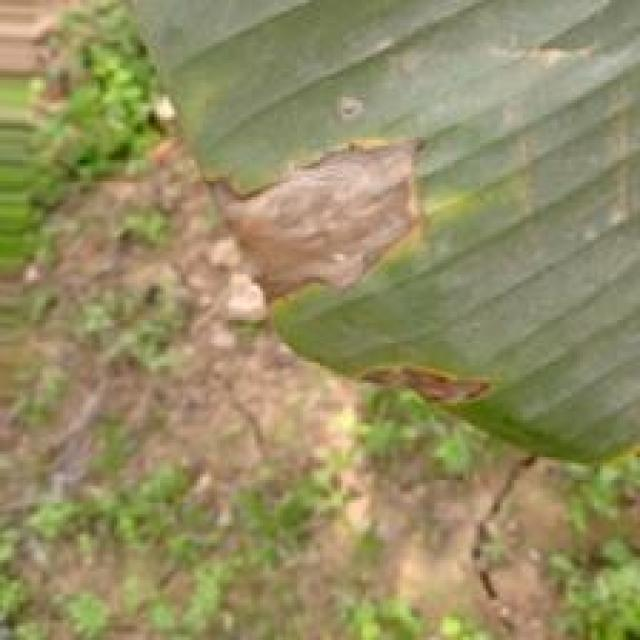Bacterial_spot: (193, 121, 468, 344), (483, 87, 564, 273), (342, 346, 506, 416), (585, 99, 640, 245), (481, 31, 609, 76), (324, 75, 366, 139)
